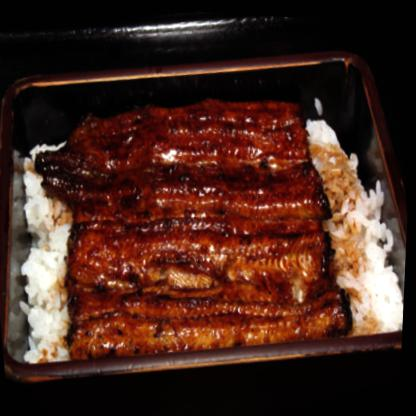eel: (41, 72, 344, 374)
